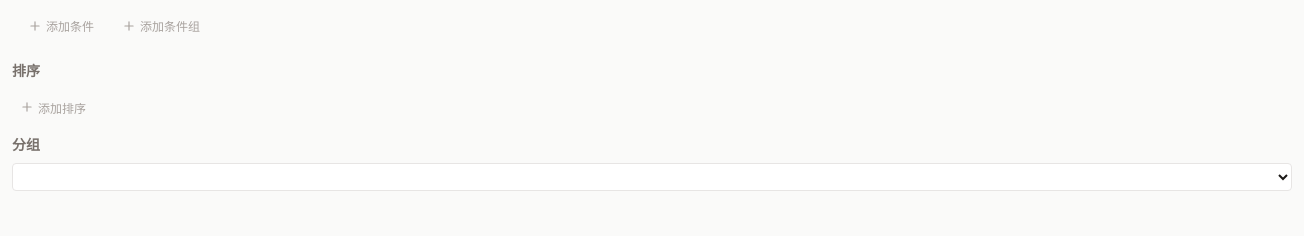
Test: FilterBuilder 值编辑器按类型分派 › select 字段渲染选项下拉（值存 id）
Click the button "添加条件". click: coordinates (61, 26)
box: 20,14 -> 102,37
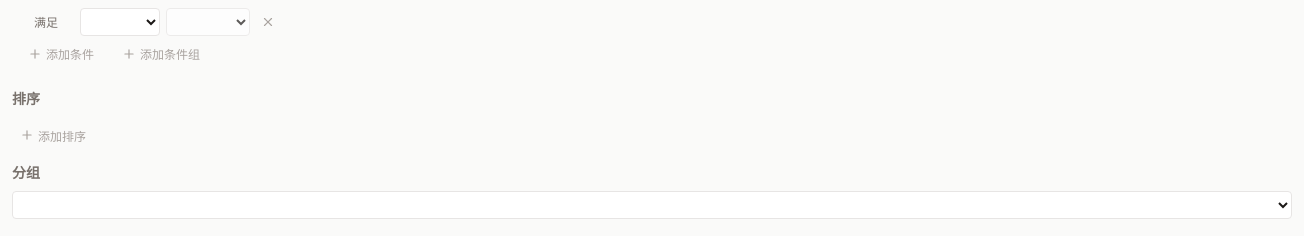
Select "状态" in the 1st dropdown. click: coordinates (120, 22)
box: 80,8 -> 160,36
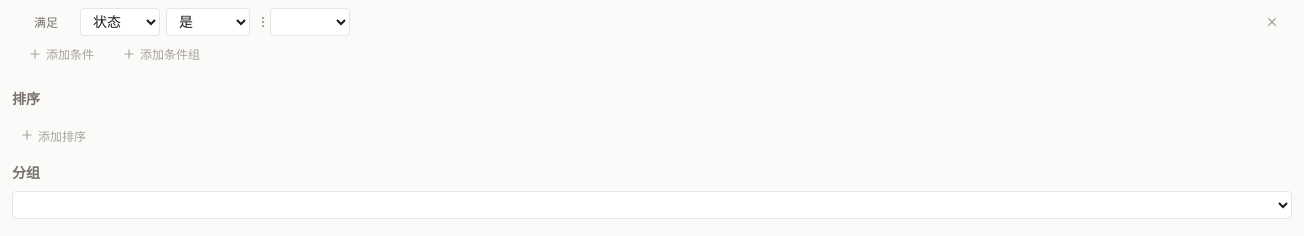
Expected: the 3rd dropdown is shown, 270,8 -> 350,36
